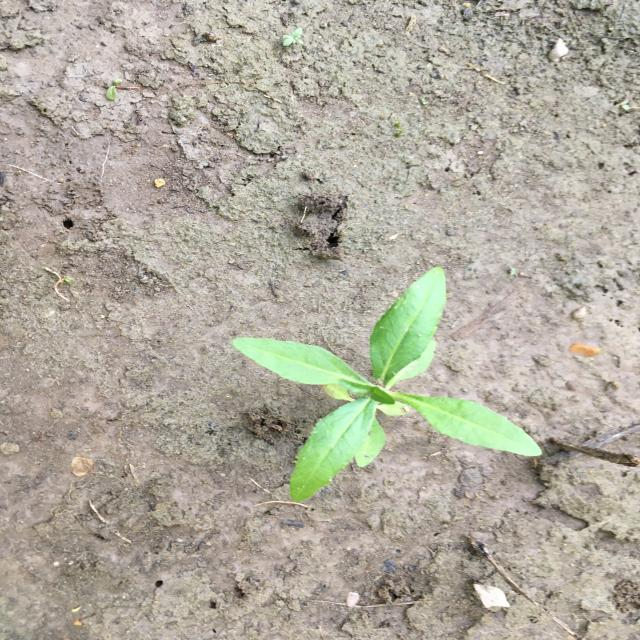Eclipta: (230, 266, 545, 506)
